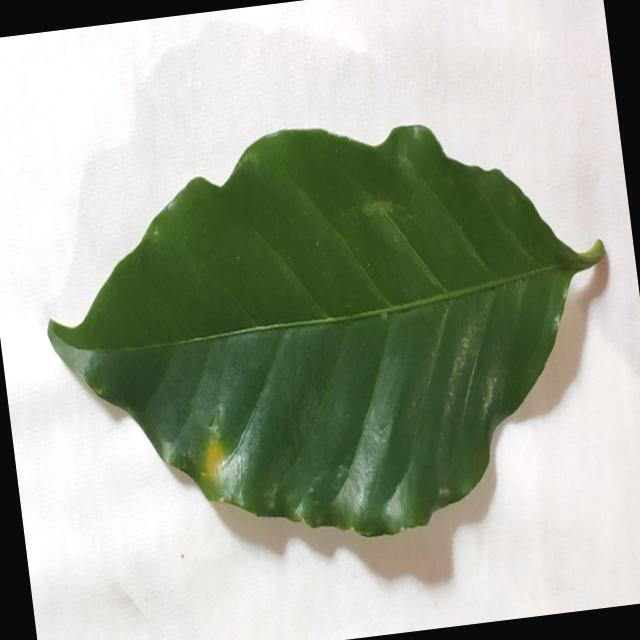KaratDaunKopi: (206, 441, 223, 476)
